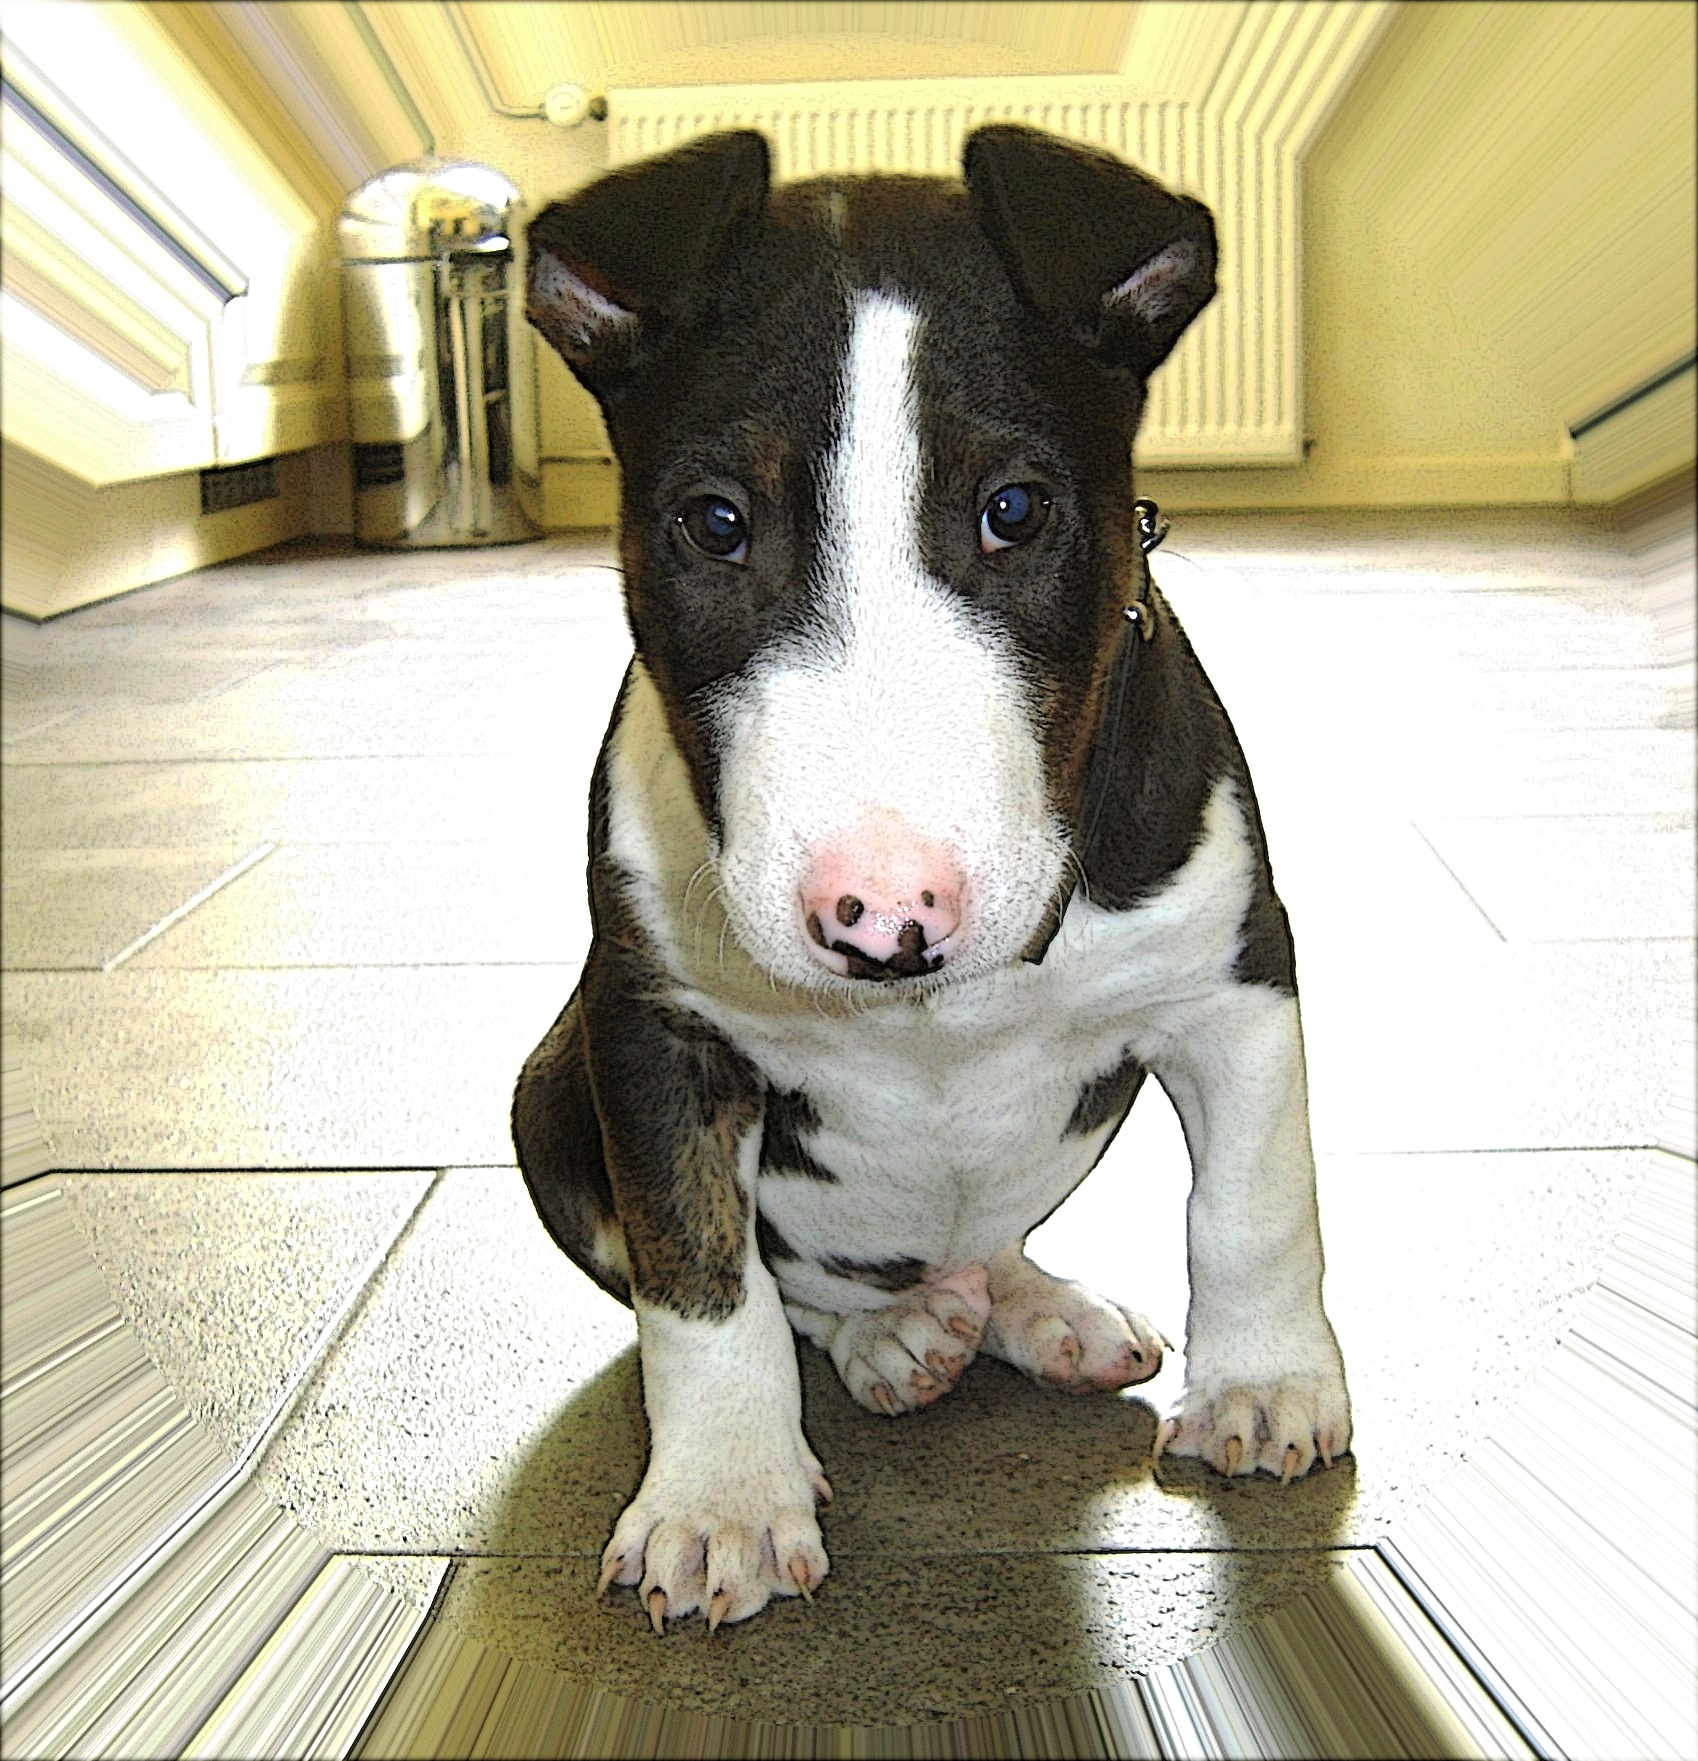bull_terrier: (506, 121, 1355, 1634)
